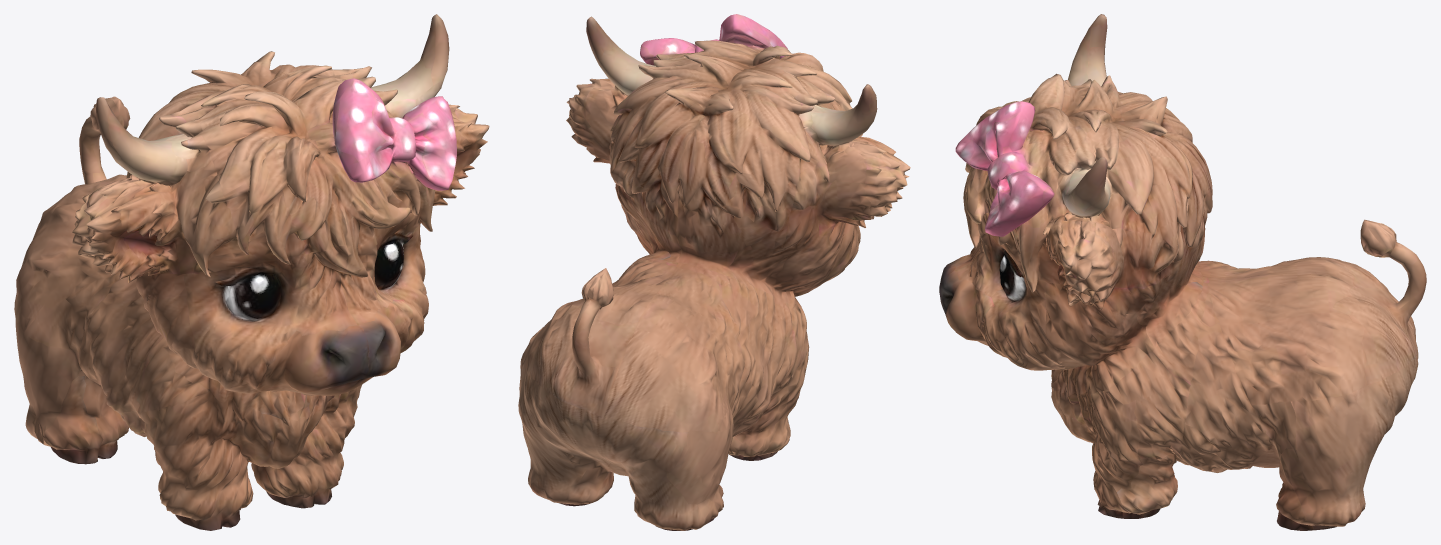
The picture shows the model from 3 angles, left to right: view 1: azimuth 30°, elevation 25°; view 2: azimuth 150°, elevation 25°; view 3: azimuth 270°, elevation 25°; orthographic projection. The views are drawn at different scales.
Parts seen in each view (by area): view 1: mesh_node; view 2: mesh_node; view 3: mesh_node.
Boxes of the visible parts, bbox=[...] form: mesh_node: bbox=[14, 14, 489, 530]; mesh_node: bbox=[518, 14, 910, 530]; mesh_node: bbox=[939, 14, 1426, 530].
Size of the model in its own units: 1.63 by 1.75 by 1.9.
Materials: 1 (1 with a texture image).
